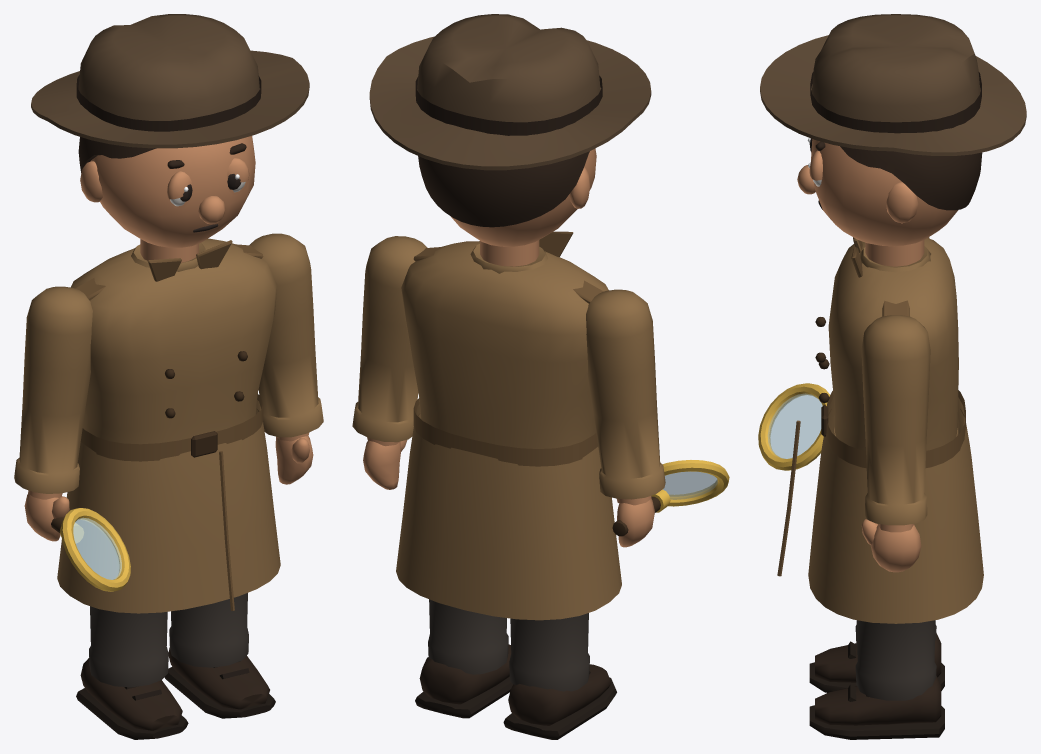
The model's file is Character_Class_detective.fbx.
3 views of the same model, side by side, from view 1: azimuth 30°, elevation 25°; view 2: azimuth 150°, elevation 25°; view 3: azimuth 270°, elevation 25° (orthographic).
Visible parts, largest first — view 1: Torso, CoatSkirt, Fedora, Head, ArmR, ArmL, LegR, LegL, LegR_Shoe, LegL_Shoe, CoatBelt, MagRing (+11 smaller); view 2: Torso, CoatSkirt, Fedora, ArmR, ArmL, Hair, LegR, LegL, Head, CoatBelt, LegR_Shoe, FedoraBand (+7 smaller); view 3: Fedora, CoatSkirt, Torso, ArmL, Head, LegL, Hair, LegL_Shoe, MagLens, HandL, LegL_Sole, FedoraBand (+5 smaller).
Boxes of the visible parts, x1,y1,x2,y2 form: Torso: (71, 238, 277, 444); CoatSkirt: (57, 400, 280, 613); Fedora: (31, 14, 309, 148); Head: (80, 136, 255, 262); ArmR: (14, 286, 92, 493); ArmL: (249, 233, 323, 437); LegR: (89, 606, 168, 687); LegL: (169, 593, 248, 667); LegR_Shoe: (80, 658, 182, 730); LegL_Shoe: (168, 647, 269, 709); CoatBelt: (80, 394, 263, 461); MagRing: (60, 508, 130, 591); Torso: (401, 241, 608, 448); CoatSkirt: (396, 404, 621, 620); Fedora: (369, 14, 651, 170); ArmR: (586, 289, 665, 499); ArmL: (352, 236, 427, 442); Hair: (418, 151, 589, 227); LegR: (509, 613, 589, 691); LegL: (428, 599, 508, 674); Head: (450, 148, 596, 266); CoatBelt: (413, 398, 598, 466); LegR_Shoe: (508, 664, 611, 725); FedoraBand: (415, 75, 602, 135); Fedora: (760, 14, 1026, 155); CoatSkirt: (808, 397, 983, 623); Torso: (828, 238, 959, 450); ArmL: (861, 315, 930, 525); Head: (797, 138, 958, 266); LegL: (855, 620, 936, 700); Hair: (840, 146, 982, 210); LegL_Shoe: (815, 676, 941, 725); MagLens: (767, 393, 822, 458); HandL: (861, 519, 921, 572); LegL_Sole: (809, 684, 944, 739); FedoraBand: (810, 71, 981, 133).
Size of the model in its own units: 261 by 536 by 196.
